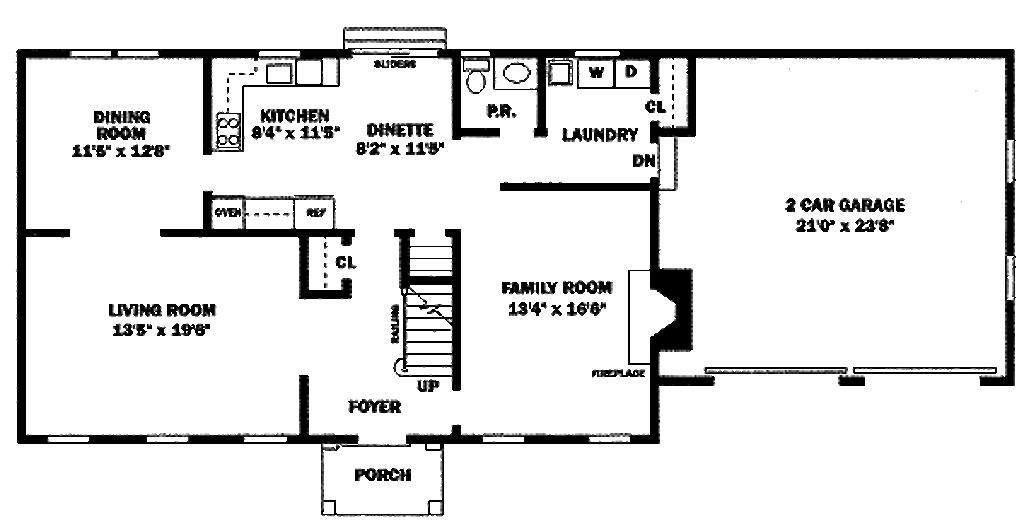large_sink: (459, 55, 495, 100)
small_sink: (495, 55, 539, 89)
stairs: (389, 226, 467, 384)
window: (66, 45, 165, 64), (581, 433, 632, 450), (39, 432, 93, 447), (239, 433, 292, 446), (481, 433, 528, 447), (144, 431, 189, 445)
